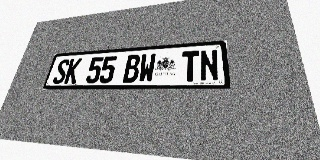5: (85, 57, 104, 83), (99, 56, 117, 83)
B: (122, 54, 141, 83)
K: (63, 58, 82, 84)
N: (200, 49, 219, 81)
S: (52, 59, 71, 84)
T: (181, 50, 199, 82)
W: (138, 53, 156, 83)
